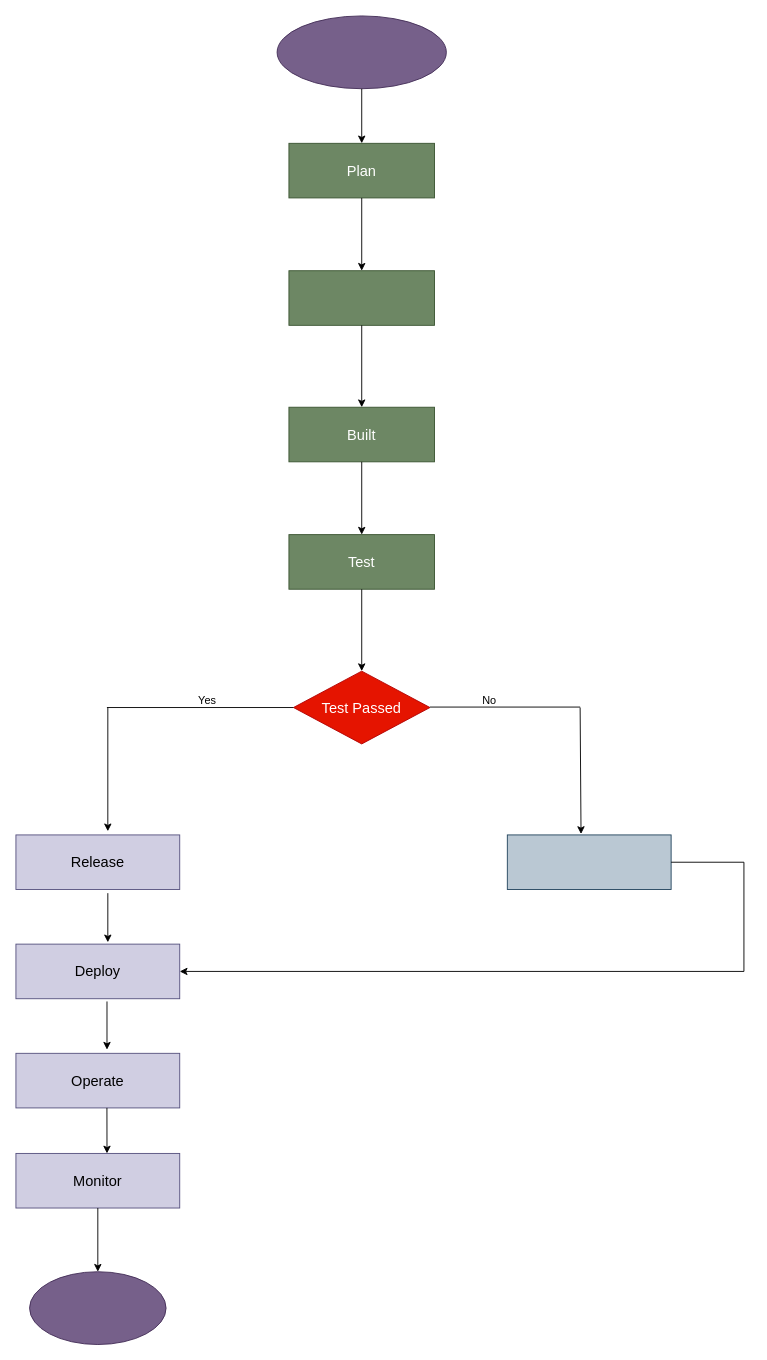
The diagram is 767 pixels wide and 1360 high, and some of its shapes have lost their labels. The centre of each missing label's shape, as x and y in pixels:
"Develop" goes at [361,297].
"Fix & Commit" goes at [588,862].
"Start" goes at [361,52].
"Stop" goes at [97,1308].
